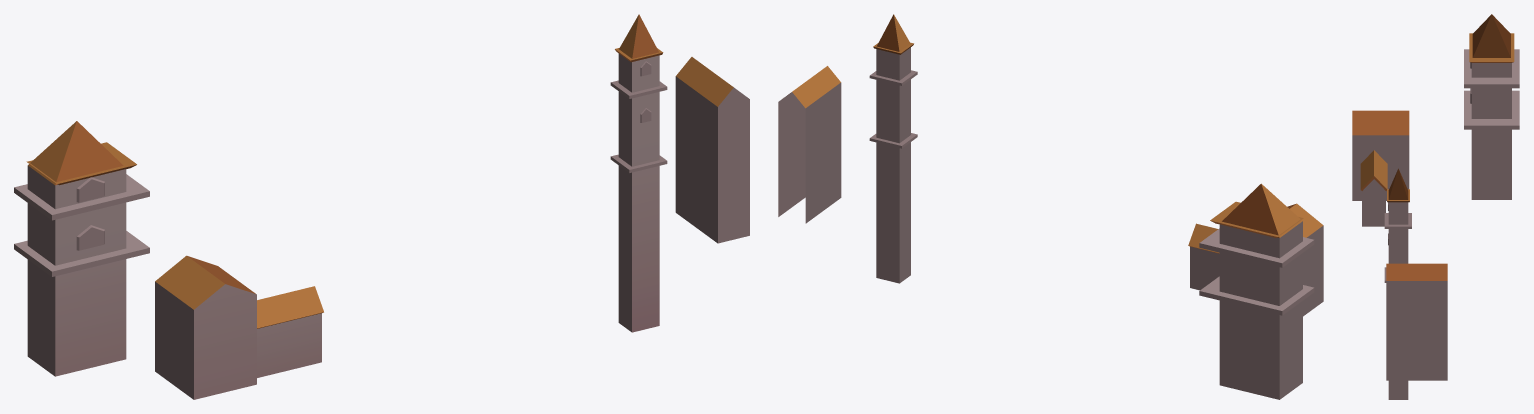
The model's file is PT_Sce_01_c.FBX.
3 renders of one model, left to right at view 1: azimuth 30°, elevation 25°; view 2: azimuth 150°, elevation 25°; view 3: azimuth 270°, elevation 25°, orthographic. The views are drawn at different scales.
Parts seen in each view (by area): view 1: PT_Sce_01_c; view 2: PT_Sce_01_c; view 3: PT_Sce_01_c.
Part boxes in pixels (x1=…): PT_Sce_01_c: x1=14, y1=14, x2=749, y2=399; PT_Sce_01_c: x1=778, y1=14, x2=1323, y2=399; PT_Sce_01_c: x1=1352, y1=14, x2=1519, y2=399.
Size of the model in its own units: 14864 by 6838 by 4565.
